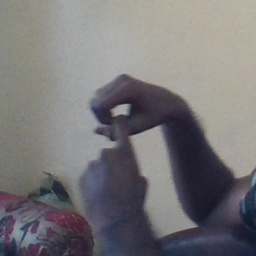Q: (75, 73, 181, 211)
